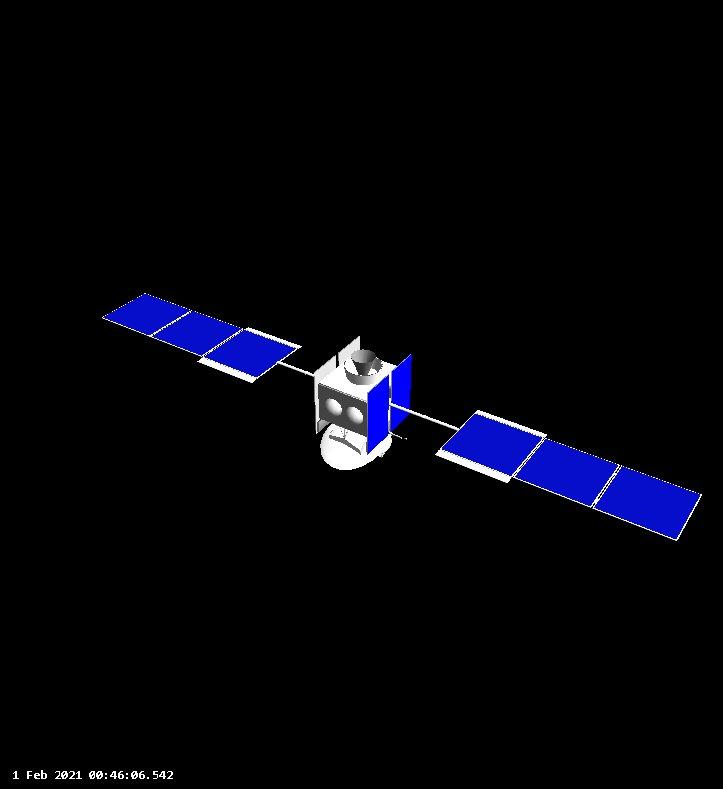antenna: (317, 418, 393, 472)
body: (316, 354, 402, 435)
solar: (433, 410, 706, 541), (100, 287, 305, 385), (363, 351, 417, 455), (311, 331, 356, 437)
thruster: (348, 348, 378, 379)
